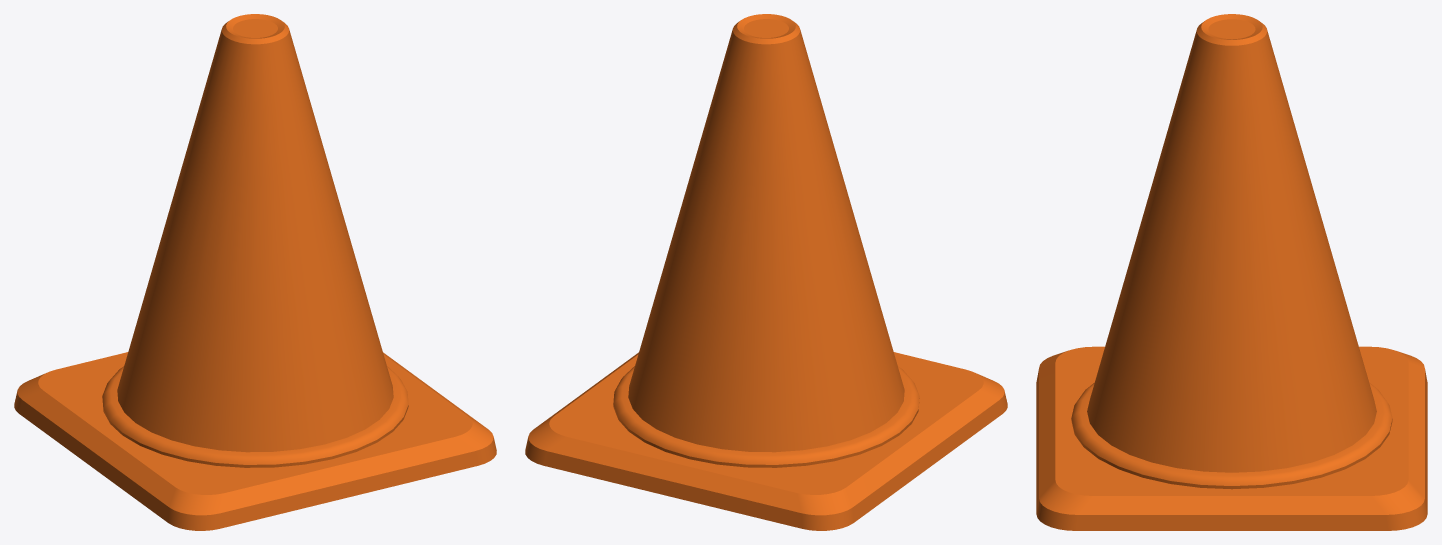
The model's file is rua_roadcone_01.glb.
The picture shows the model from 3 angles, left to right: view 1: azimuth 30°, elevation 25°; view 2: azimuth 150°, elevation 25°; view 3: azimuth 270°, elevation 25°; orthographic projection. The views are drawn at different scales.
Visible parts, largest first — view 1: SM_RoadCone_01; view 2: SM_RoadCone_01; view 3: SM_RoadCone_01.
Part boxes in pixels (box(x1,y1,x2,y2)): SM_RoadCone_01: box(14, 14, 496, 530); SM_RoadCone_01: box(525, 14, 1007, 530); SM_RoadCone_01: box(1036, 14, 1427, 530).
Size of what is drawn, in the model's own units: 0.3924 by 0.4664 by 0.3924.
